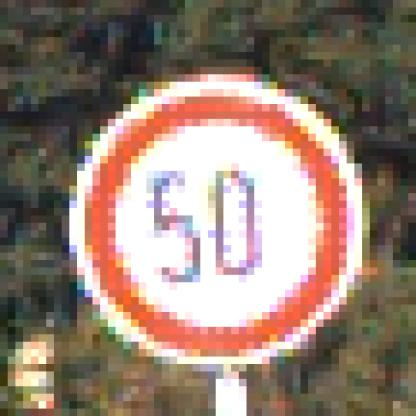Speed Limit 50: (81, 84, 355, 364)
